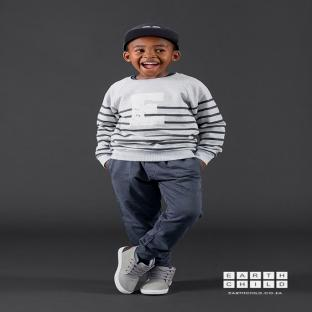Human: (96, 23, 225, 294)
